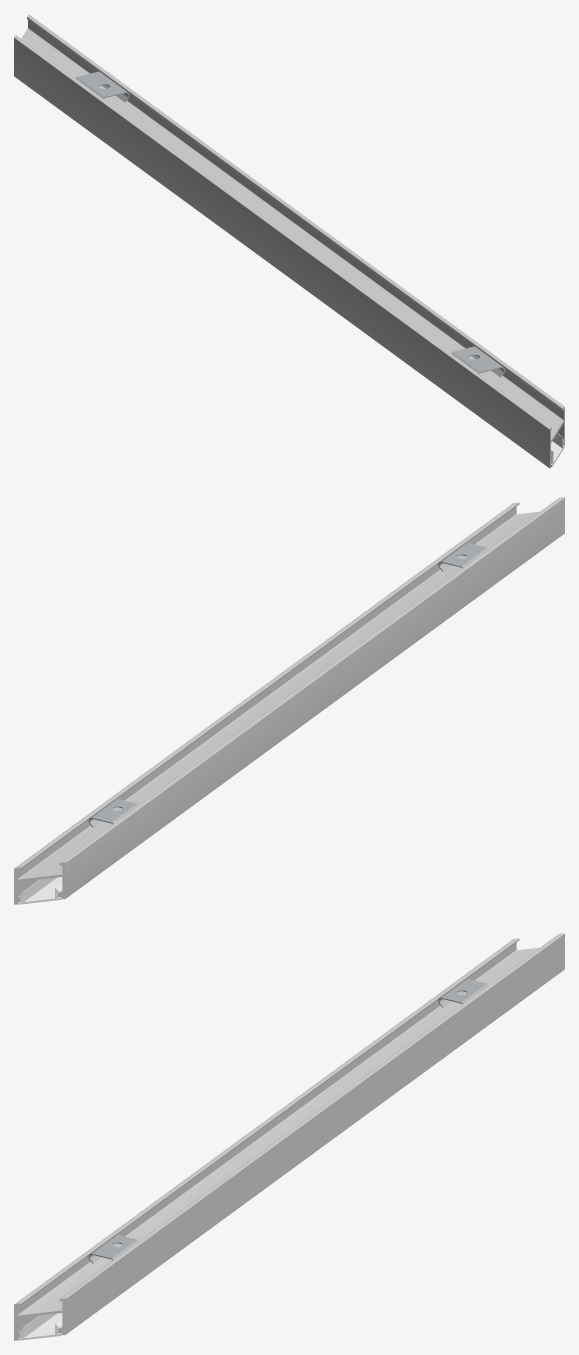
The model's file is Fit15Plafon-corte-45.glb.
The picture shows the model from 3 angles, top to bottom: view 1: azimuth 30°, elevation 25°; view 2: azimuth 150°, elevation 25°; view 3: azimuth 330°, elevation 25°; orthographic projection. The views are drawn at different scales.
Parts seen in each view (by area): view 1: 3DGeom-1, 3DGeom-2 (×2); view 2: 3DGeom-1, 3DGeom-2 (×2), 3DGeom-3; view 3: 3DGeom-1, 3DGeom-2 (×2), 3DGeom-3.
Boxes of the visible parts, x1,y1,x2,y2 form: 3DGeom-1: (14, 14, 564, 468); 3DGeom-2 (×2): (75, 71, 505, 377); 3DGeom-1: (14, 497, 564, 904); 3DGeom-2 (×2): (88, 543, 488, 827); 3DGeom-3: (18, 877, 62, 904); 3DGeom-1: (14, 933, 564, 1340); 3DGeom-2 (×2): (88, 979, 488, 1263); 3DGeom-3: (18, 1313, 62, 1340).
Size of the model in its own units: 0.0176 by 0.0187 by 0.48.
Materials: 3 (1 with a texture image).
